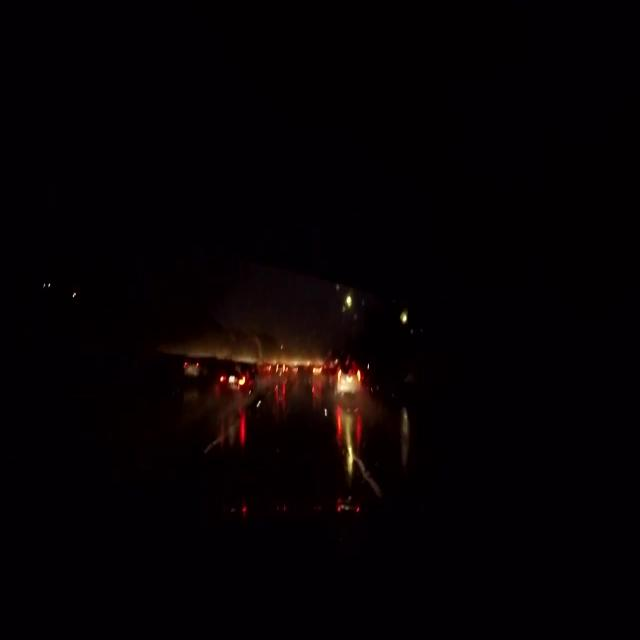Car: (325, 355, 360, 406), (215, 360, 254, 402)
